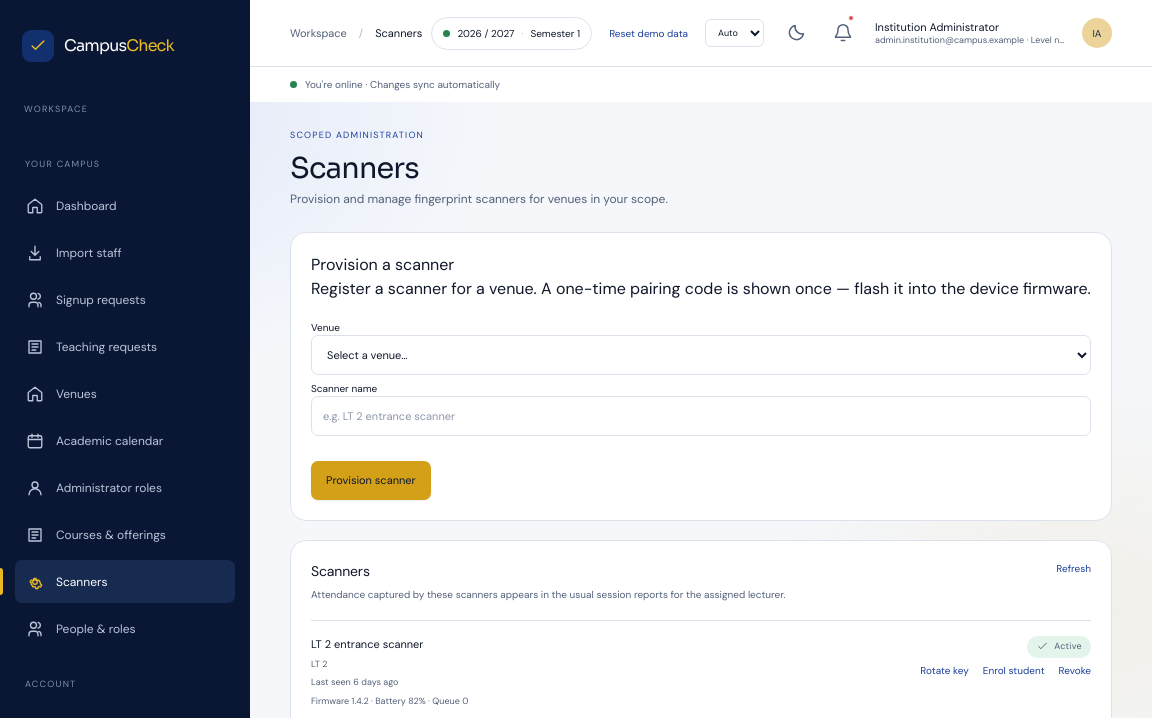
Campus Attendance screens › lists scanners and shows a provisioned pairing code once
This screenshot has width=1152, height=718.
Expected: the heading "Scanners" below "SCOPED ADMINISTRATION" is shown, [290,150,419,186]
Expected: the text "LT 2 entrance scanner" is shown, [311,637,423,651]
Select "LT 2" in the dropdown labelled "Venue". click: (701, 355)
box: [311,335,1091,375]
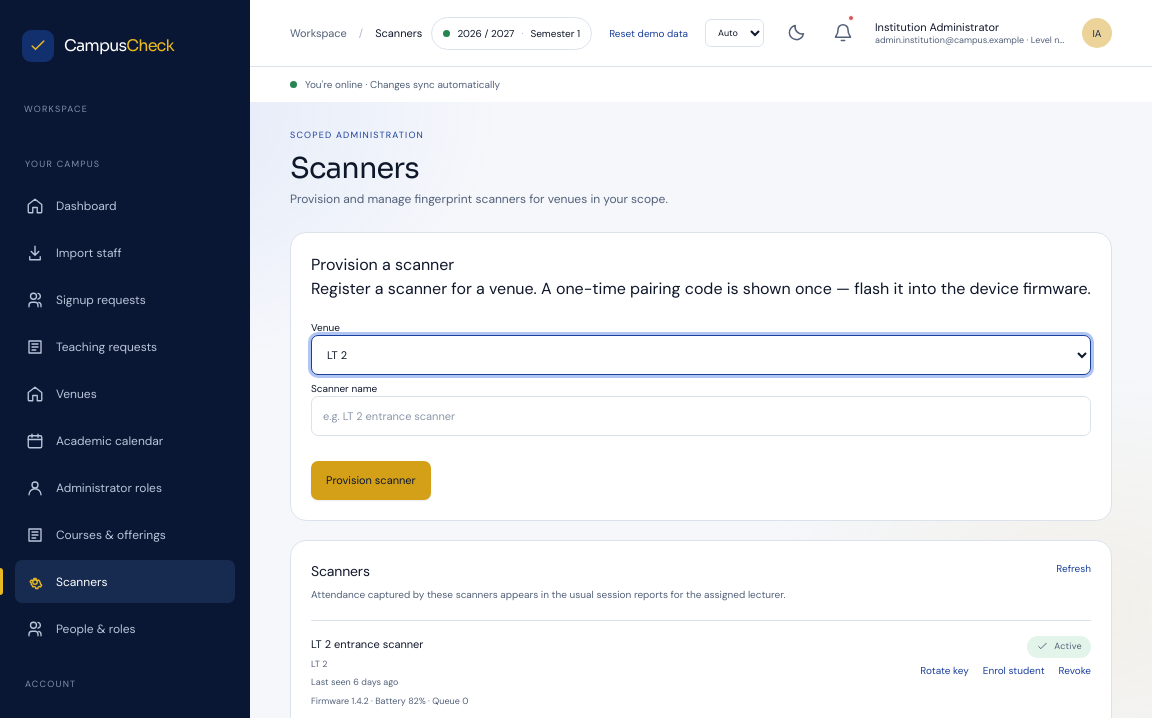
Type "New gate scanner" into the field labelled "Scanner name". click: (701, 416)
box: [311,396,1091,436]
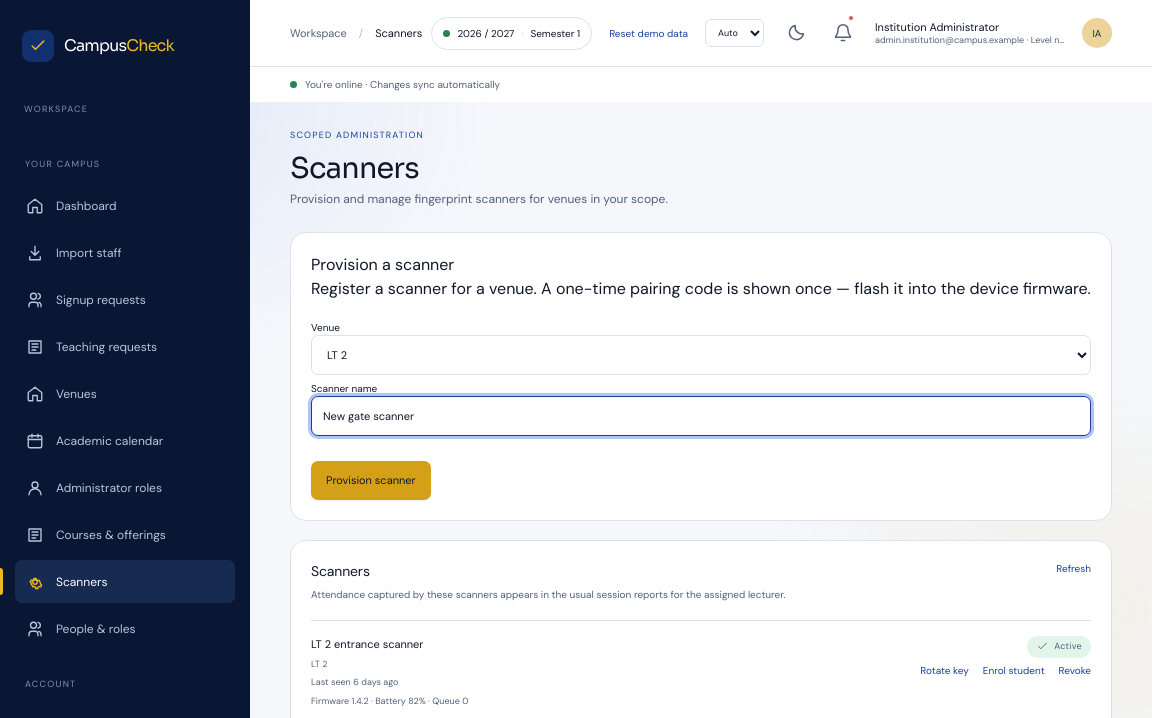
Click the button "Provision scanner". click: (371, 481)
box: [311,461,431,500]
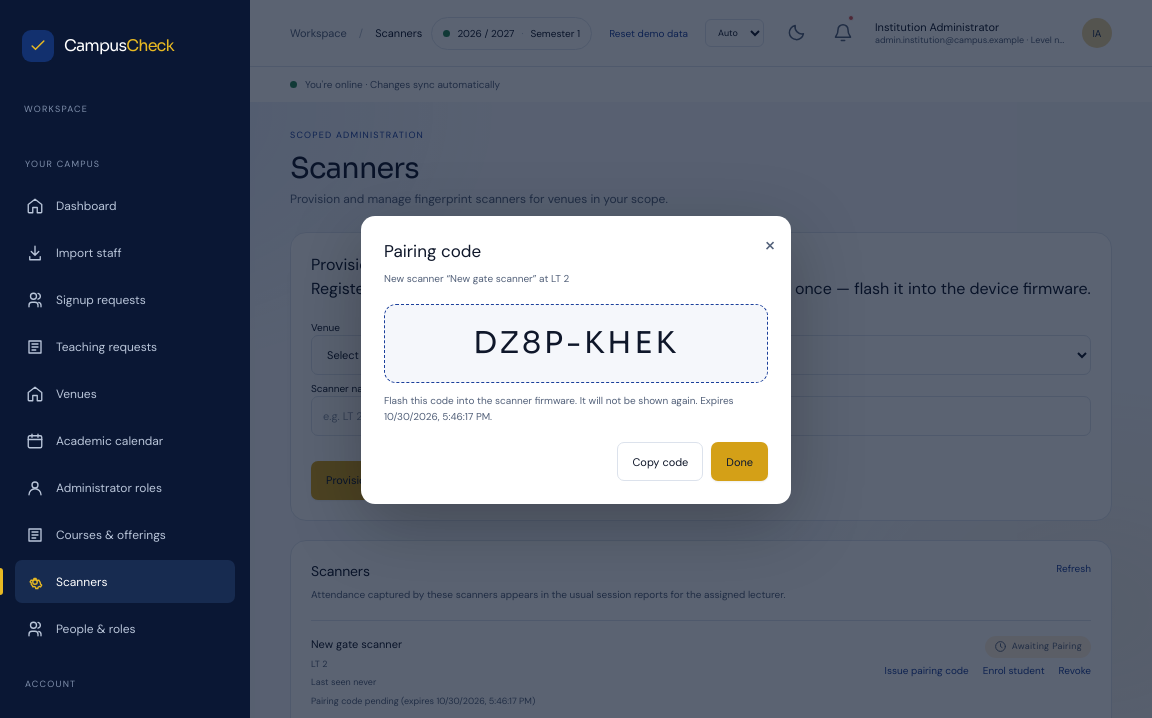
Expected: the heading "Pairing code" is shown, [384,240,481,262]
Expected: the text "It will not be shown again." is shown, [384,394,698,407]
